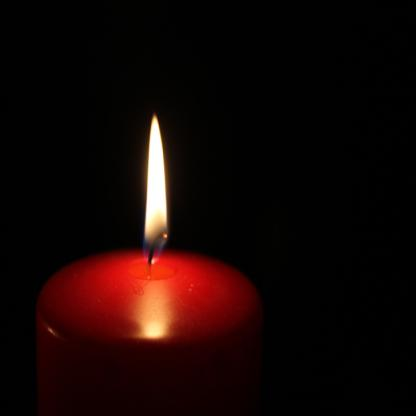fire: (135, 99, 179, 263)
